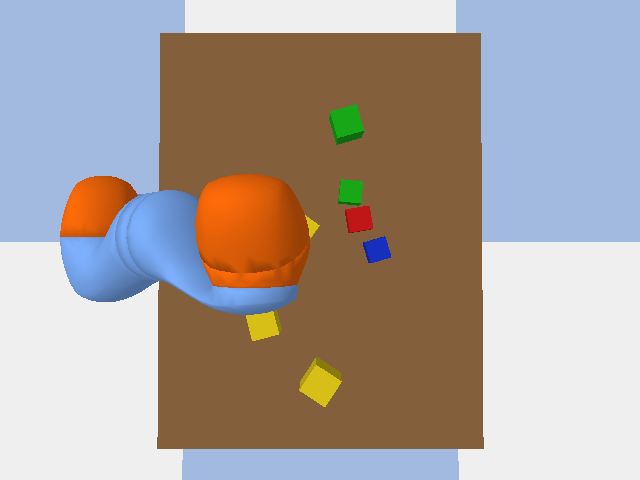blue_obj: (363, 236, 390, 262)
green_obj: (329, 104, 363, 144), (338, 179, 362, 205)
red_obj: (345, 206, 372, 232)
yellow_obj: (299, 357, 341, 406), (246, 310, 281, 340), (305, 215, 319, 239)
